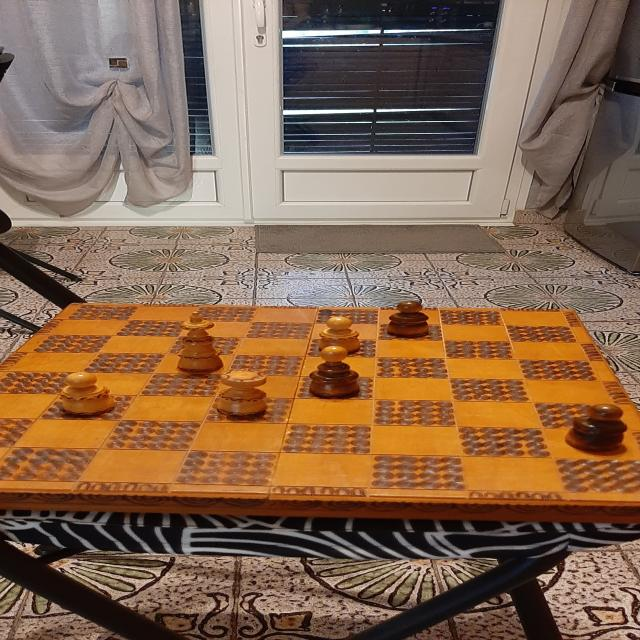black-bishop: (309, 346, 360, 399)
black-pawn: (565, 404, 628, 451), (387, 301, 429, 337)
white-king: (178, 311, 224, 372)
white-pawn: (60, 372, 115, 416), (318, 317, 360, 354)
white-rook: (216, 368, 267, 416)
